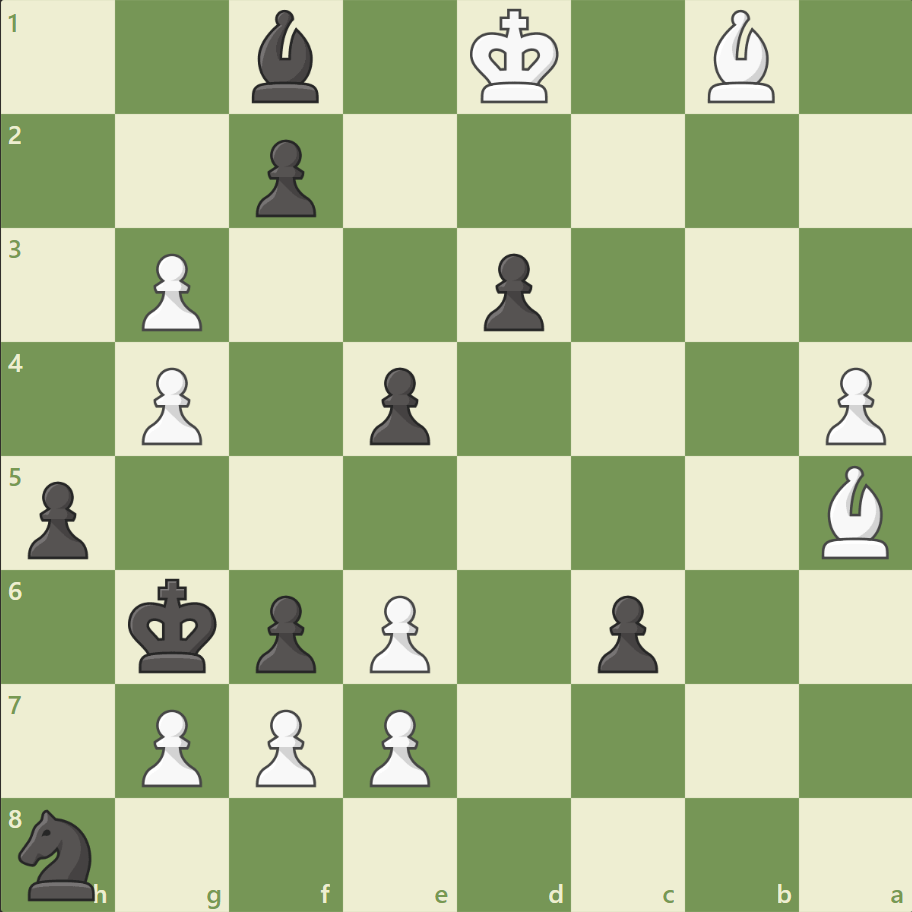B: (812, 460, 896, 563), (698, 6, 782, 109)
K: (465, 4, 565, 112)
P: (247, 700, 322, 791), (133, 700, 208, 791), (133, 359, 208, 450), (133, 246, 208, 337), (361, 700, 435, 791), (361, 586, 435, 677), (815, 359, 889, 450)
b: (244, 6, 328, 109)
k: (124, 571, 224, 679)
n: (11, 802, 108, 904)
p: (247, 586, 322, 677), (20, 473, 95, 564), (474, 246, 549, 337), (247, 132, 322, 223), (588, 586, 662, 677), (361, 359, 435, 450)
